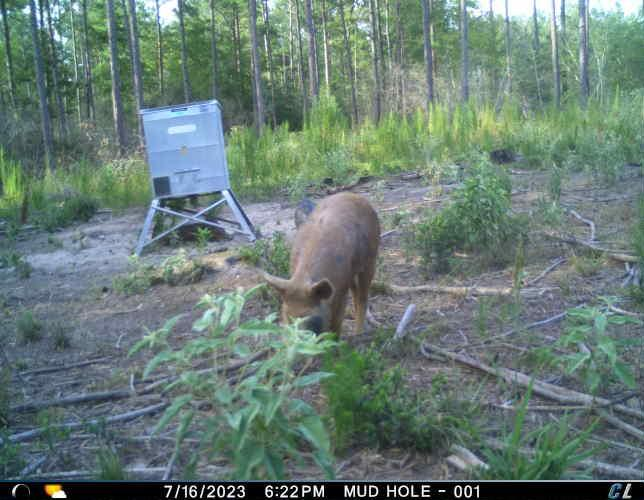Hog: (261, 191, 382, 339)
